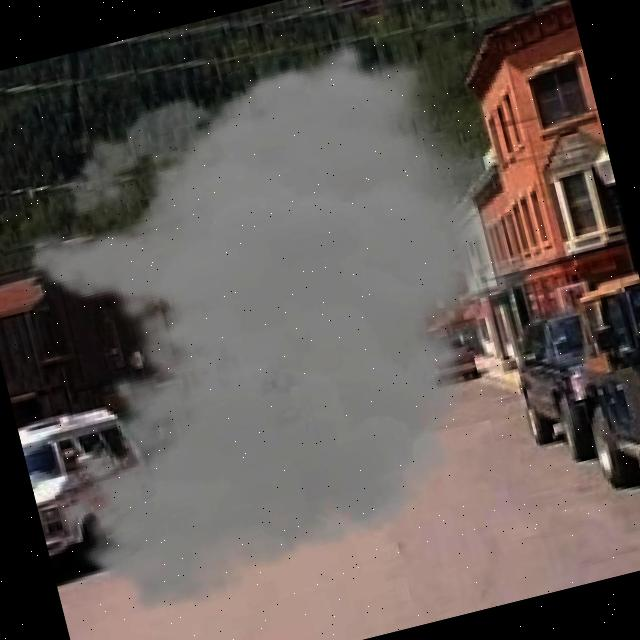smoke: (0, 3, 608, 635)
